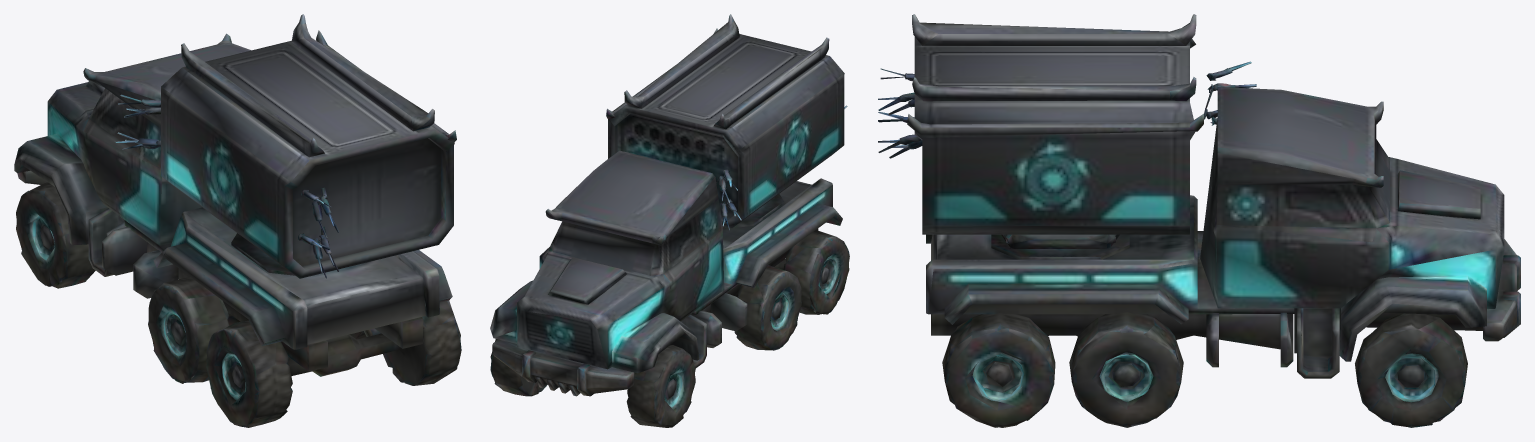
File: swarm_hive.glb
The picture shows the model from 3 angles, left to right: view 1: azimuth 30°, elevation 25°; view 2: azimuth 150°, elevation 25°; view 3: azimuth 270°, elevation 25°; orthographic projection. The views are drawn at different scales.
Visible parts, largest first — view 1: Body; view 2: Body; view 3: Body.
Part boxes in pixels (x1,y1,x2,y2): Body: (14, 14, 461, 427); Body: (490, 14, 849, 427); Body: (878, 14, 1520, 427).
Bounding box in the file's own units: 3 × 4.18 × 7.33.
Materials: 1 (1 with a texture image).
